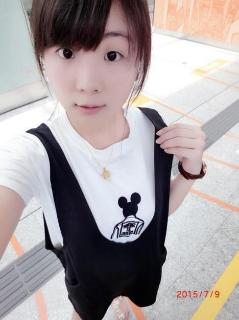short sleeve top: (0, 106, 175, 268)
vest: (25, 107, 175, 319)
